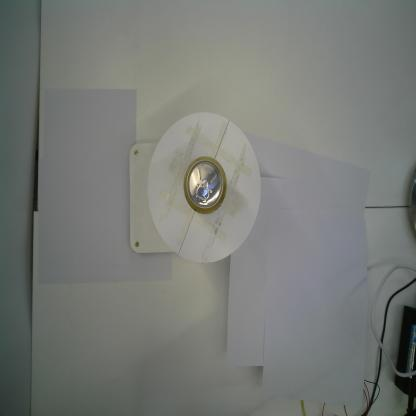Alcohol: (183, 156, 228, 215)
